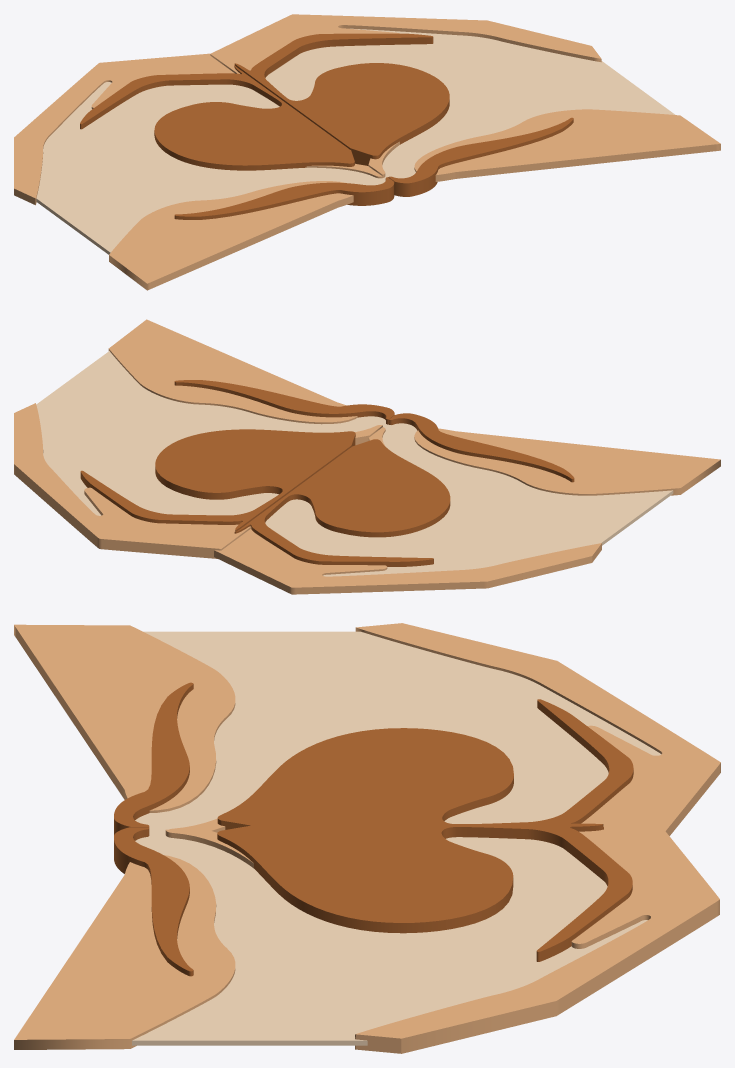
The model's file is emoji_u1faf6_1f3fb.glb.
The picture shows the model from 3 angles, top to bottom: view 1: azimuth 30°, elevation 25°; view 2: azimuth 150°, elevation 25°; view 3: azimuth 270°, elevation 25°; orthographic projection. The views are drawn at different scales.
Visible parts, largest first — view 1: emoji_u1faf6_1f3fb; view 2: emoji_u1faf6_1f3fb; view 3: emoji_u1faf6_1f3fb.
Boxes of the visible parts, bbox=[...] form: emoji_u1faf6_1f3fb: bbox=[14, 14, 720, 290]; emoji_u1faf6_1f3fb: bbox=[14, 319, 720, 594]; emoji_u1faf6_1f3fb: bbox=[14, 623, 720, 1053].
Size of the model in its own units: 0.0353 by 0.001 by 0.0252.
